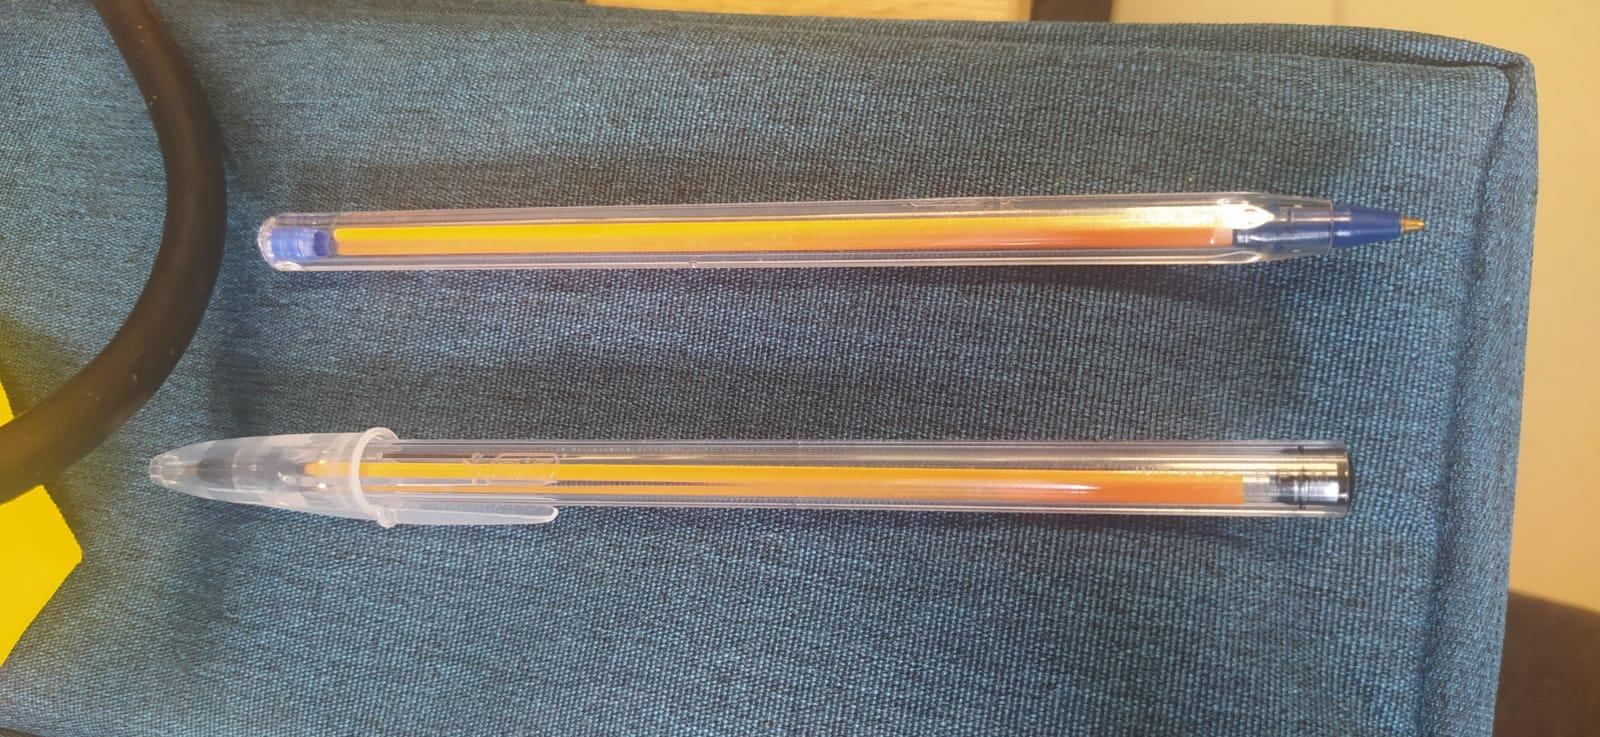pen: (146, 422, 1361, 535), (256, 179, 1436, 278)
